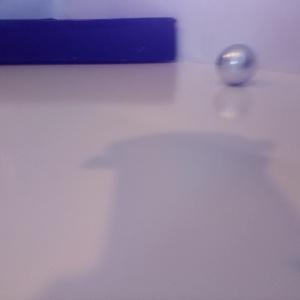zone: (1, 18, 177, 66)
